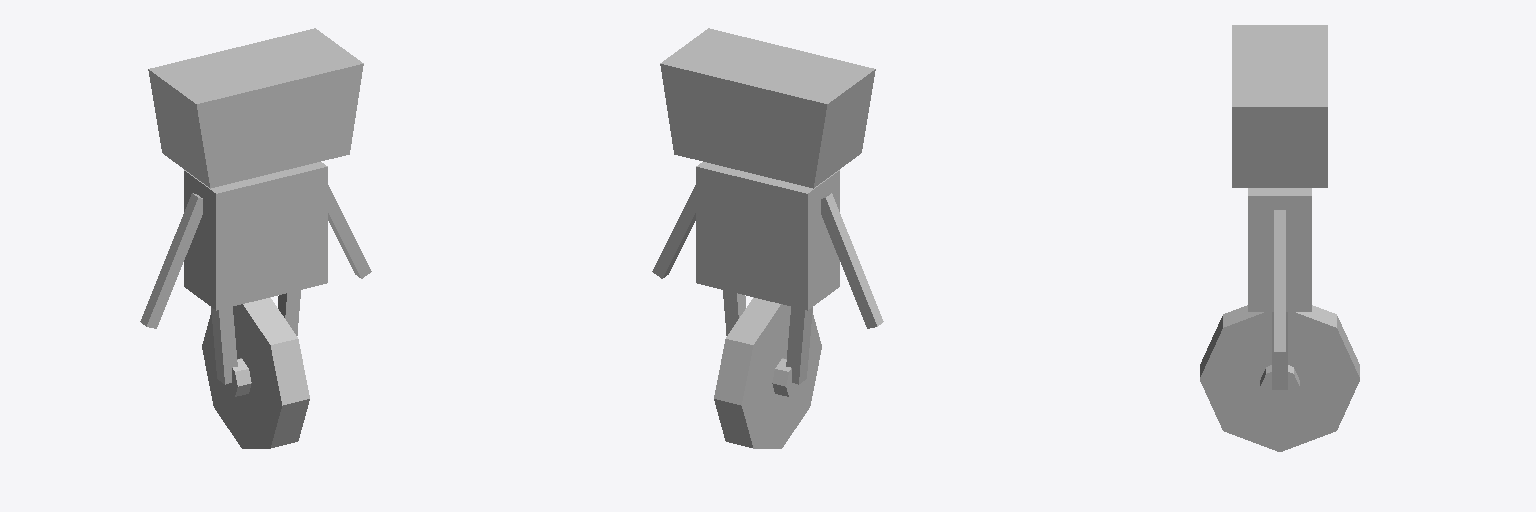
File: wheel_robot.obj
3 views of the same model, side by side, from view 1: azimuth 30°, elevation 25°; view 2: azimuth 150°, elevation 25°; view 3: azimuth 270°, elevation 25° (orthographic).
Visible parts, largest first — view 1: Cube.004, wheel.001, Cube.005, Cube.006; view 2: Cube.004, wheel.001, Cube.005, Cube.006; view 3: Cube.004, wheel.001, Cube.006.
Boxes of the visible parts, x1,y1,x2,y2 form: Cube.004: [148, 28, 363, 384]; wheel.001: [202, 297, 309, 448]; Cube.005: [140, 193, 202, 328]; Cube.006: [328, 185, 371, 278]; Cube.004: [660, 28, 875, 384]; wheel.001: [714, 297, 821, 448]; Cube.005: [821, 193, 883, 328]; Cube.006: [652, 185, 695, 278]; Cube.004: [1232, 25, 1327, 389]; wheel.001: [1200, 305, 1359, 451]; Cube.006: [1274, 210, 1285, 351].
Size of the model in its own units: 0.8082 by 1.3 by 0.5.